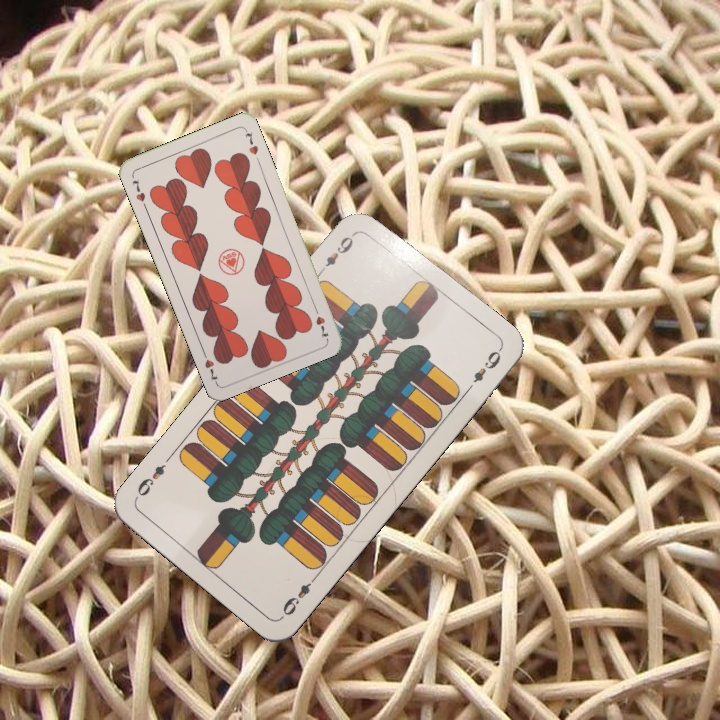E9: (316, 228, 359, 276), (278, 571, 320, 618)
H7: (310, 302, 331, 341), (128, 175, 149, 211)
